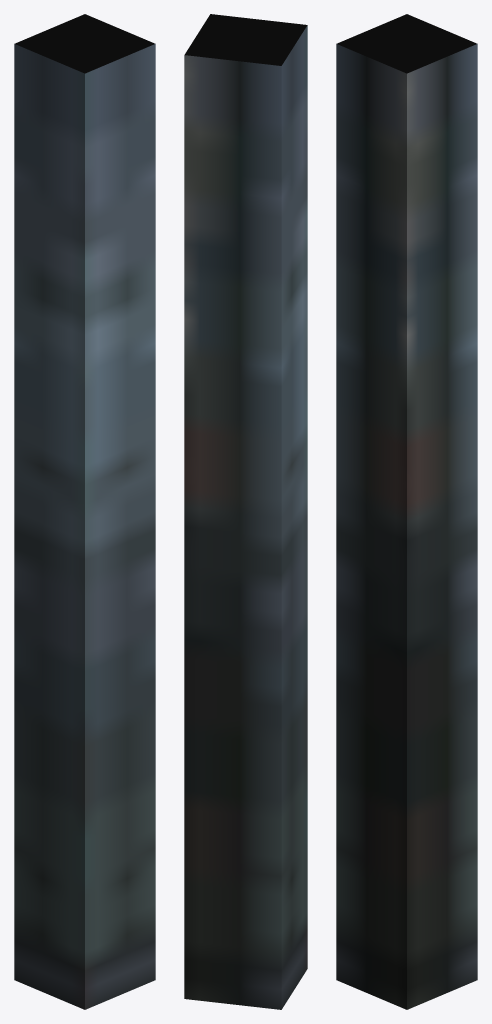
Rendered from Shared - Armor - Tanker Truck - Damage State 18 - CVTanker_d18.glb.
3 views of the same model, side by side, from view 1: azimuth 90°, elevation 25°; view 2: azimuth 210°, elevation 25°; view 3: azimuth 270°, elevation 25° (orthographic).
Parts seen in each view (by area): view 1: CVTANKER_D18; view 2: CVTANKER_D18; view 3: CVTANKER_D18.
Boxes of the visible parts, bbox=[...] form: CVTANKER_D18: bbox=[14, 14, 155, 1009]; CVTANKER_D18: bbox=[184, 14, 307, 1009]; CVTANKER_D18: bbox=[336, 14, 477, 1009].
Bounding box in the file's own units: 0.778 × 5.69 × 0.778.
1 material, 1 textured.
